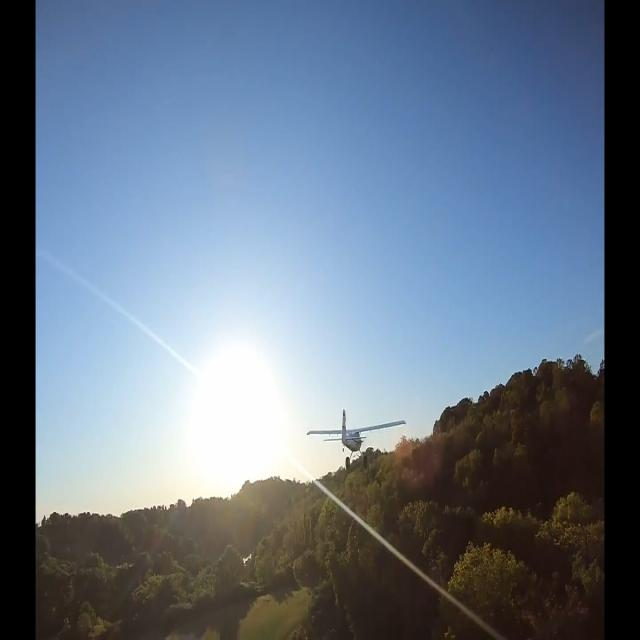iha: (338, 408, 376, 469)
